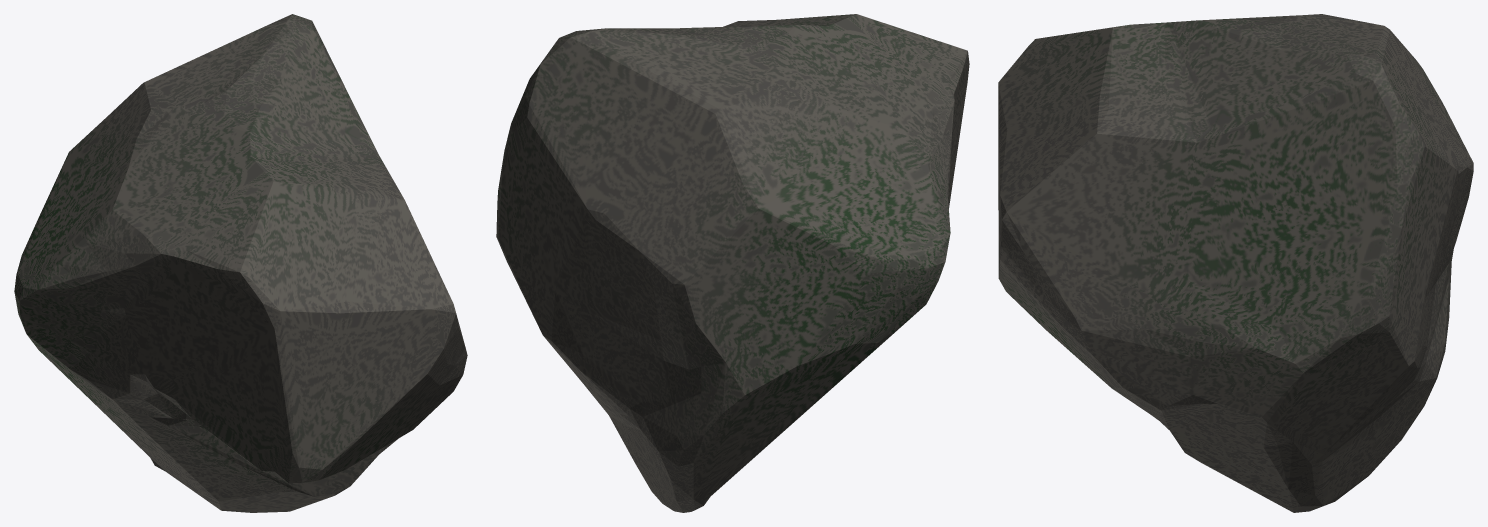
File: Piedra_03.fbx
3 views of the same model, side by side, from view 1: azimuth 30°, elevation 25°; view 2: azimuth 150°, elevation 25°; view 3: azimuth 270°, elevation 25° (orthographic). The views are drawn at different scales.
Visible parts, largest first — view 1: Piedrita_03_Piedrita_03; view 2: Piedrita_03_Piedrita_03; view 3: Piedrita_03_Piedrita_03.
Boxes of the visible parts, left/top/right/bottom form: Piedrita_03_Piedrita_03: left=14, top=14, right=467, bottom=512; Piedrita_03_Piedrita_03: left=496, top=14, right=969, bottom=512; Piedrita_03_Piedrita_03: left=998, top=14, right=1473, bottom=512.
Size of the model in its own units: 14.7 by 16.07 by 14.5.
